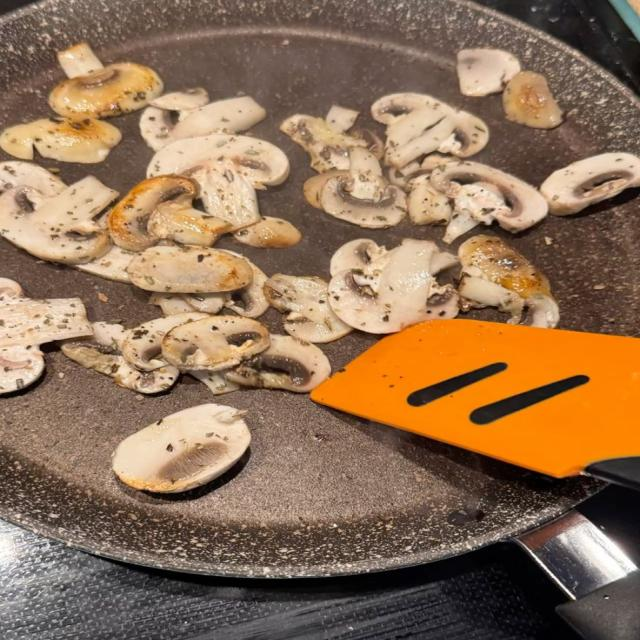champignon mushrooms: (148, 135, 289, 229), (112, 404, 250, 493), (0, 279, 92, 394), (0, 177, 118, 264), (329, 239, 437, 333), (107, 175, 230, 251), (459, 235, 559, 328), (372, 94, 488, 168), (49, 44, 163, 118), (61, 323, 179, 394), (431, 162, 547, 232), (149, 252, 268, 317), (140, 89, 266, 150), (147, 134, 289, 187), (386, 104, 488, 167), (540, 153, 639, 215), (226, 335, 331, 392), (127, 246, 253, 293), (265, 275, 352, 343), (162, 316, 269, 370), (0, 118, 121, 163), (318, 171, 406, 228), (122, 312, 207, 371), (280, 115, 367, 172), (386, 102, 453, 167), (191, 168, 259, 230), (140, 88, 208, 150), (171, 96, 266, 139), (443, 183, 509, 243), (503, 72, 563, 129), (457, 49, 520, 96), (225, 250, 268, 318), (389, 153, 456, 192), (330, 239, 395, 276), (0, 161, 66, 197), (371, 93, 444, 125), (330, 239, 390, 276), (408, 175, 452, 225), (74, 246, 134, 282), (0, 346, 44, 394), (234, 216, 301, 247), (303, 170, 349, 209), (57, 42, 103, 78), (150, 88, 209, 112), (187, 370, 241, 395), (388, 161, 424, 192), (181, 292, 229, 313), (149, 293, 194, 315), (326, 105, 359, 133)
